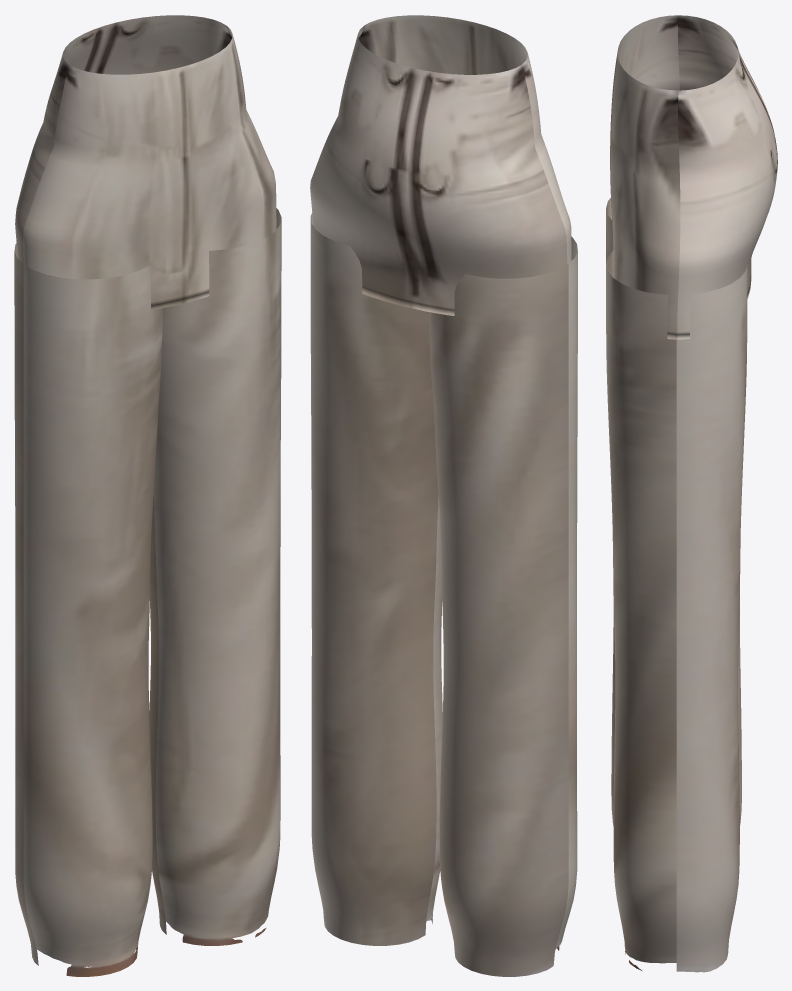
The model's file is prod-ae-champagne-trousers.glb.
The picture shows the model from 3 angles, left to right: view 1: azimuth 30°, elevation 25°; view 2: azimuth 150°, elevation 25°; view 3: azimuth 270°, elevation 25°; orthographic projection. The views are drawn at different scales.
Parts seen in each view (by area): view 1: prod-ae-champagne-trousers; view 2: prod-ae-champagne-trousers; view 3: prod-ae-champagne-trousers.
Part boxes in pixels (x1,y1,x2,y2): prod-ae-champagne-trousers: (14,15,281,976); prod-ae-champagne-trousers: (310,15,577,976); prod-ae-champagne-trousers: (606,15,777,972).
Size of the model in its own units: 0.2691 by 0.9249 by 0.1652.
1 material, 1 textured.
